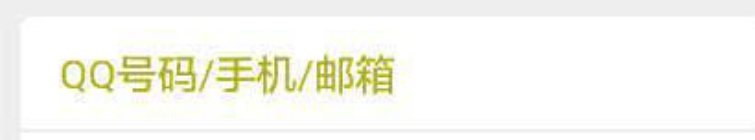EditText: (1, 1, 754, 139)
